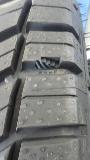temoin:100: (35, 56, 62, 70)
